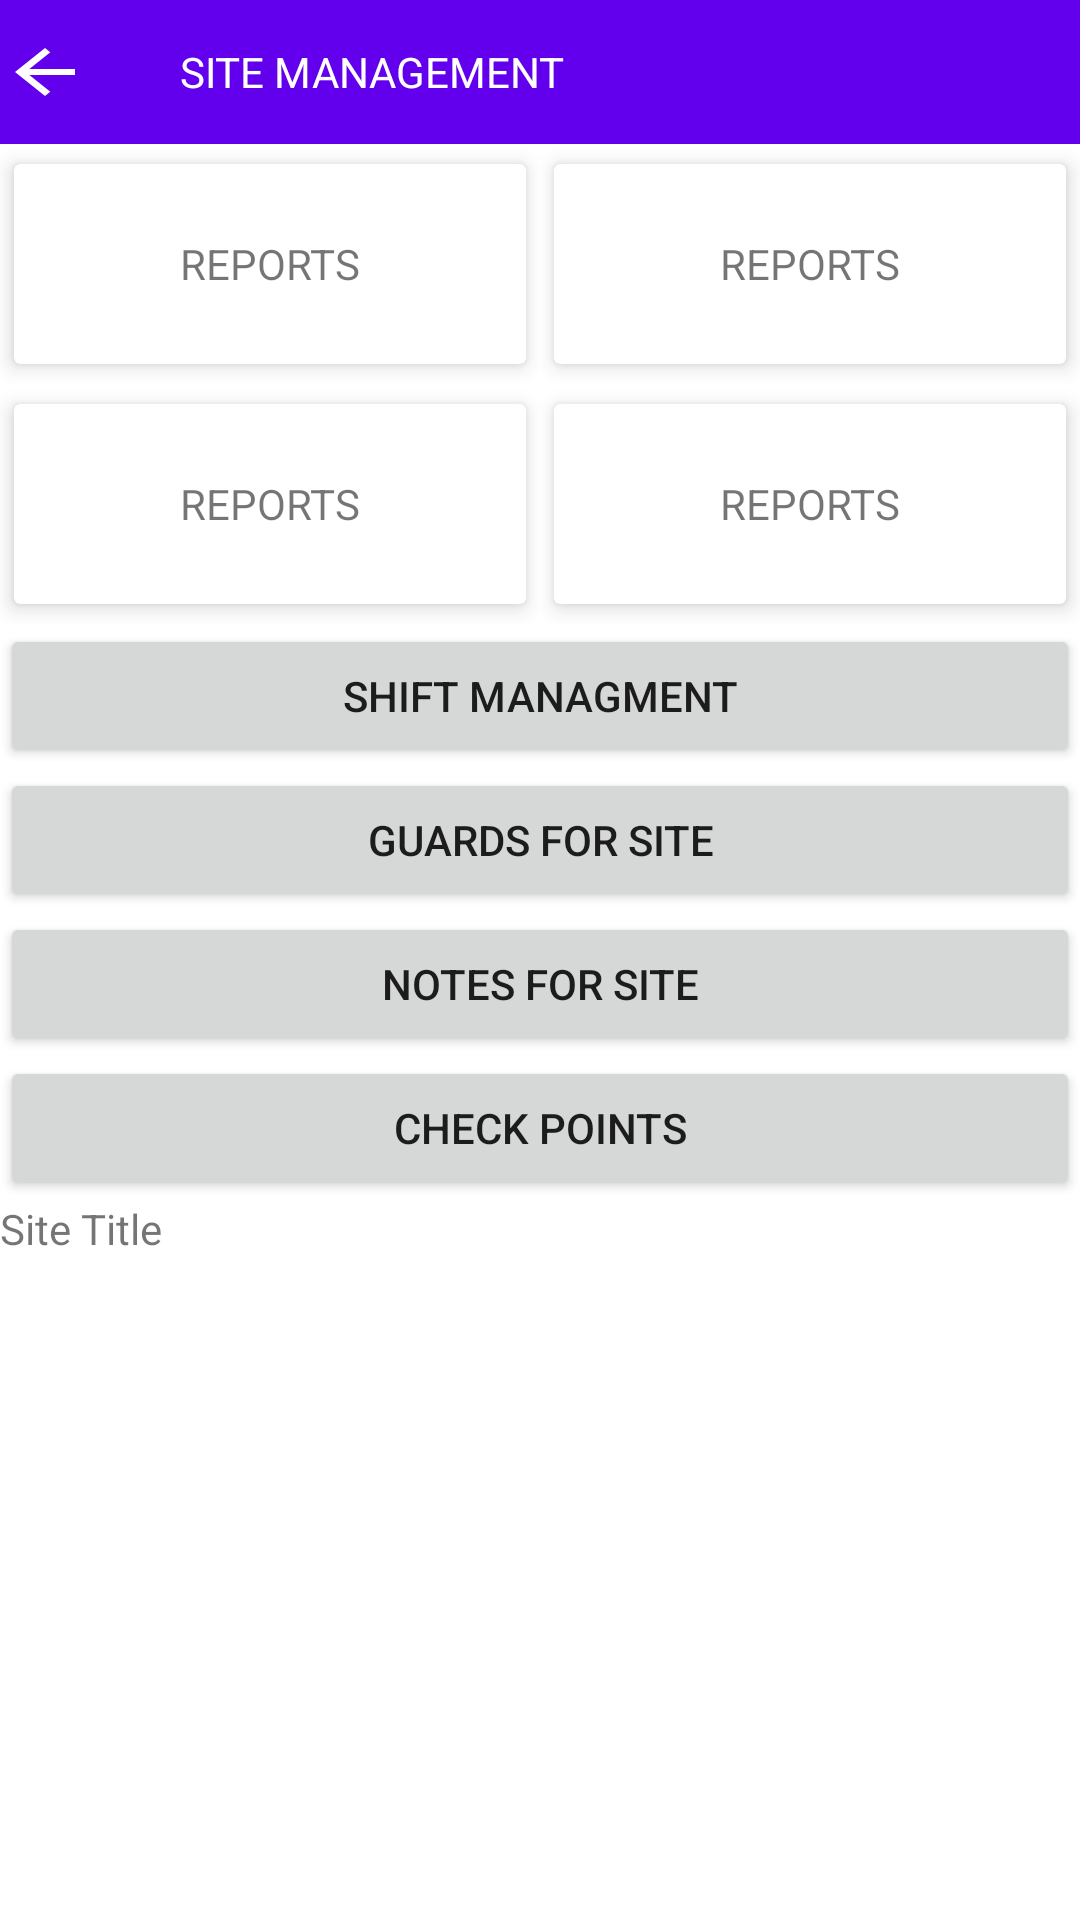

Screen size 1080x1920. Icon name, then its box in pixels as {"left": x1, "top": y1, "right": x2, "bottom": y2}:
backarrow: {"left": 15, "top": 48, "right": 75, "bottom": 96}
